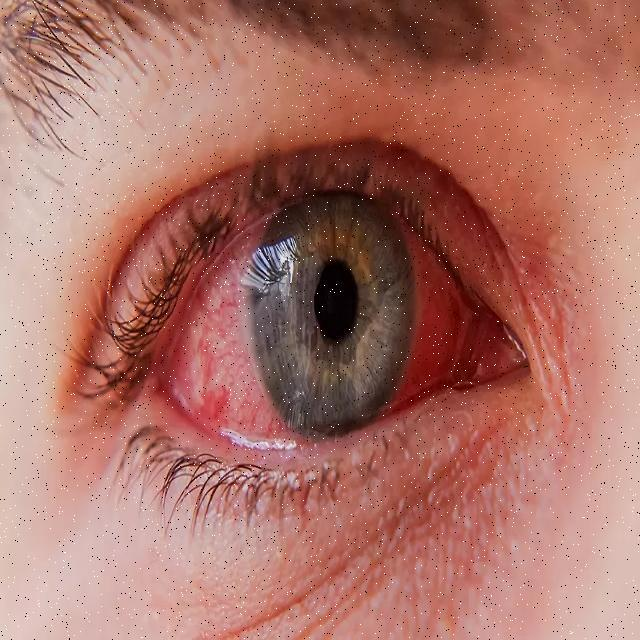Conjunctivitis: (148, 230, 522, 458)
